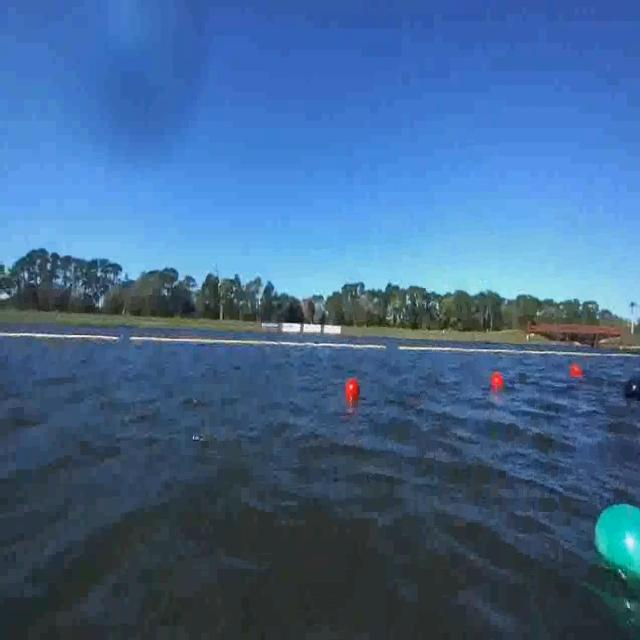green-buoy: (595, 497, 640, 585)
red-buoy: (346, 378, 359, 402)
